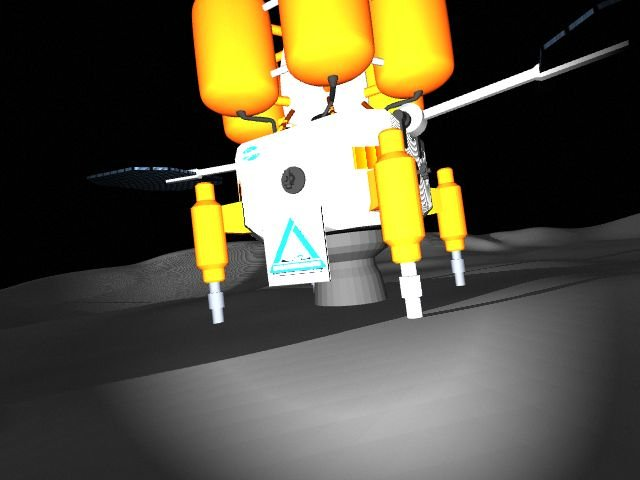basemarker: (270, 216, 328, 276)
